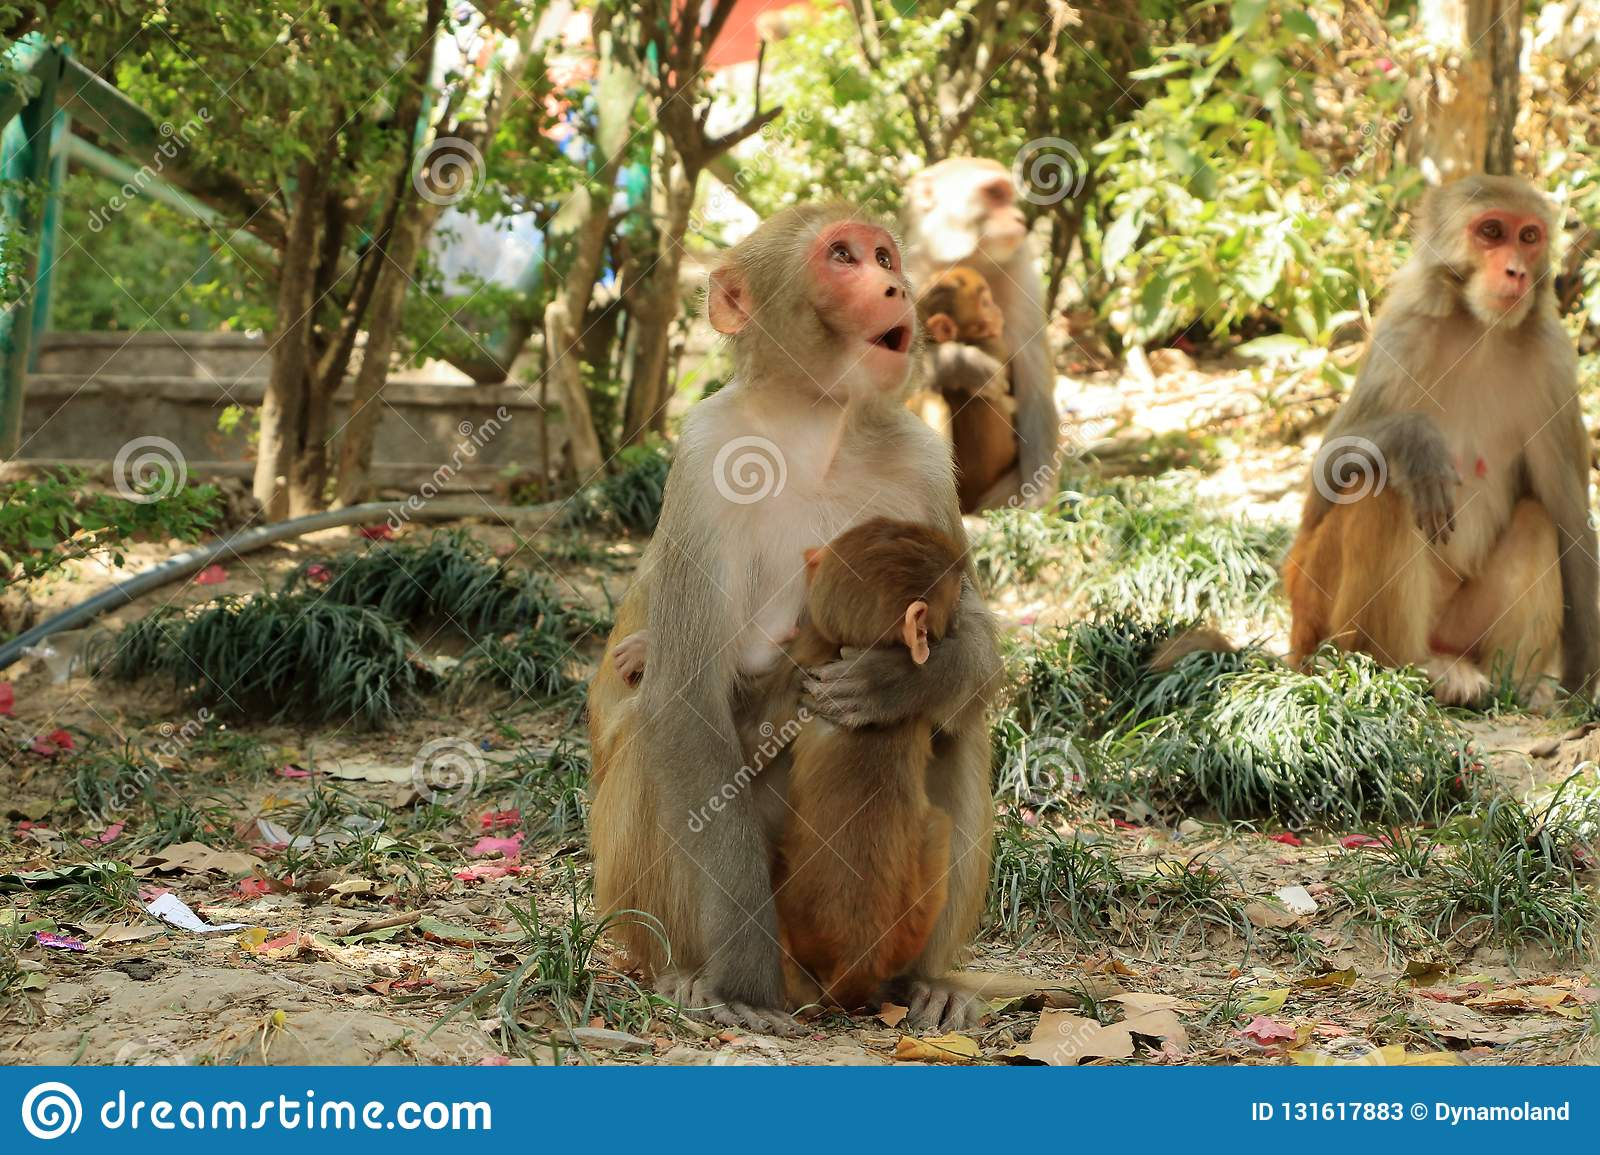monkey: (619, 199, 1000, 1025), (1266, 168, 1600, 703), (743, 515, 991, 1025), (916, 143, 1081, 522), (913, 269, 1048, 512)
